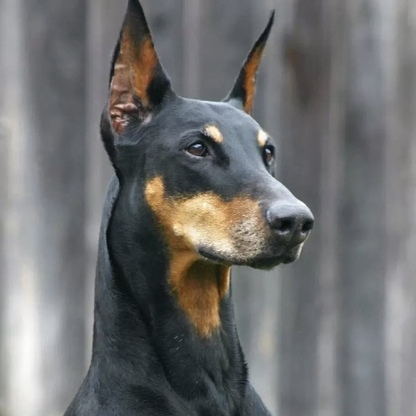doberman: (71, 6, 318, 415)
